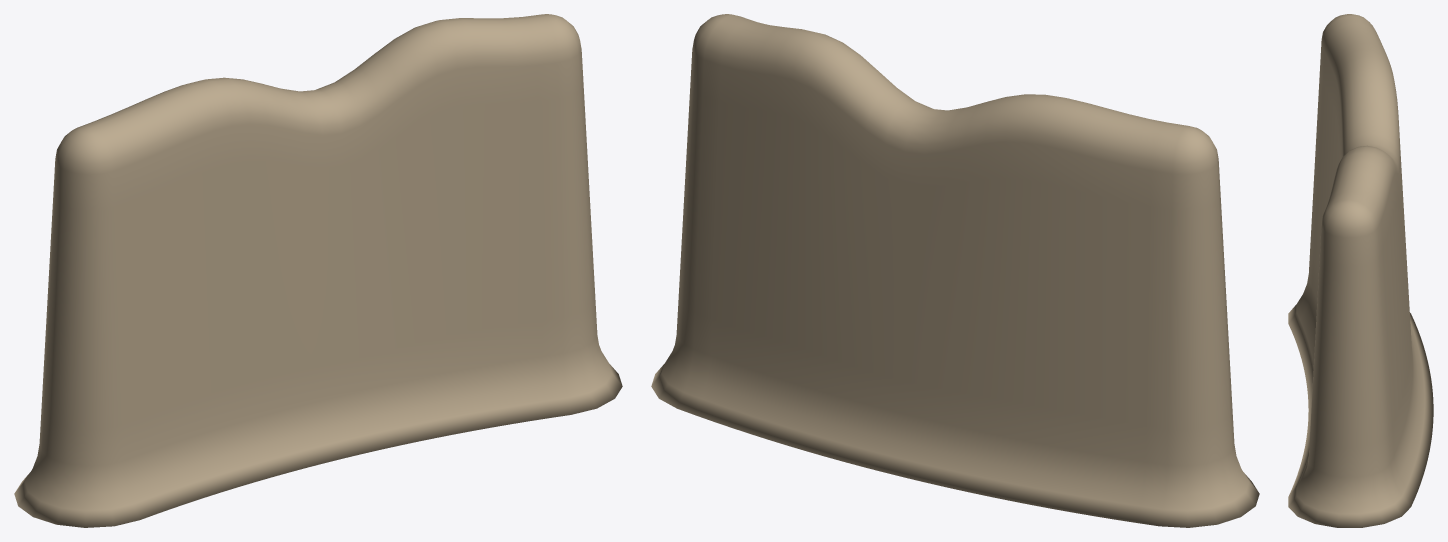
File: KFB_Wall_curved_ring_r3_capAB.r3.glb
3 renders of one model, left to right at view 1: azimuth 30°, elevation 25°; view 2: azimuth 150°, elevation 25°; view 3: azimuth 270°, elevation 25°, orthographic. The views are drawn at different scales.
Parts seen in each view (by area): view 1: KFB_Wall_curved_ring_r3_capAB; view 2: KFB_Wall_curved_ring_r3_capAB; view 3: KFB_Wall_curved_ring_r3_capAB.
Part boxes in pixels (x1=…): KFB_Wall_curved_ring_r3_capAB: x1=14, y1=14, x2=622, y2=527; KFB_Wall_curved_ring_r3_capAB: x1=651, y1=14, x2=1259, y2=527; KFB_Wall_curved_ring_r3_capAB: x1=1288, y1=14, x2=1433, y2=527.
Bounding box in the file's own units: 6.01 × 3.71 × 1.57.
